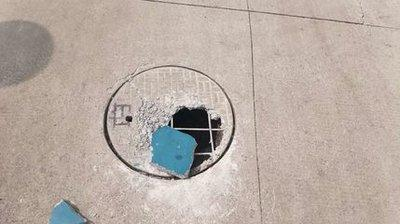wellcover: (91, 61, 242, 189)
